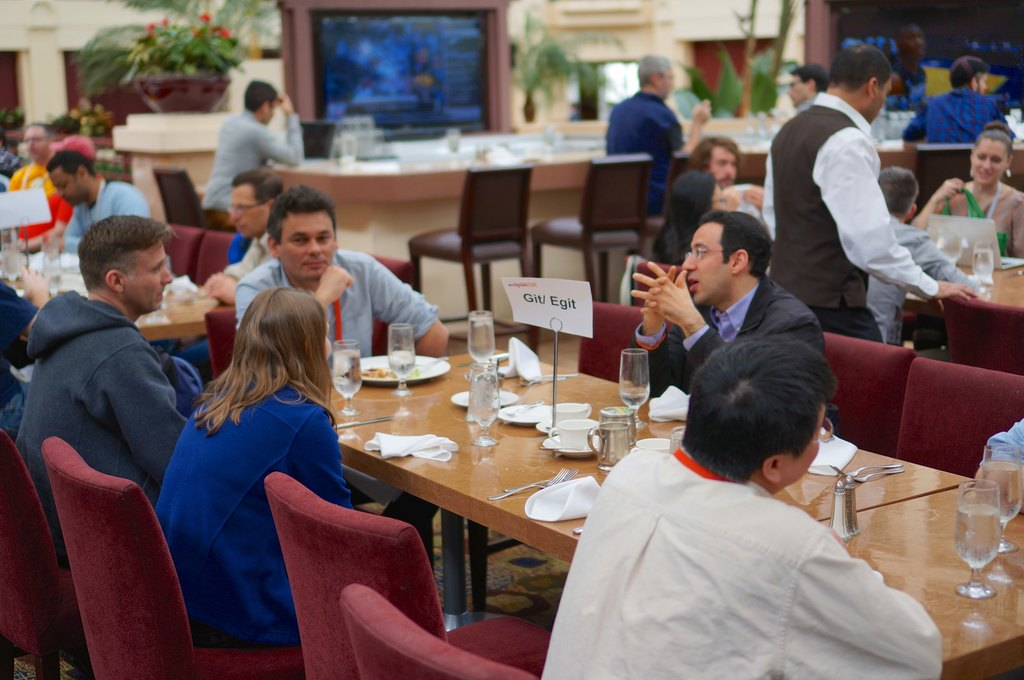Chair: (38, 433, 305, 679), (262, 471, 550, 679), (406, 159, 539, 356), (0, 427, 86, 679), (338, 580, 540, 679), (532, 150, 654, 299), (897, 357, 1023, 480), (820, 329, 913, 454), (936, 289, 1023, 372), (371, 248, 412, 356), (152, 162, 212, 228), (200, 303, 237, 382), (190, 228, 237, 287), (164, 226, 196, 272)
